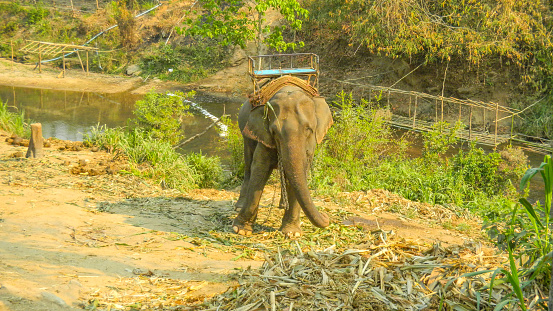Adult Elephant: (211, 30, 346, 254)
